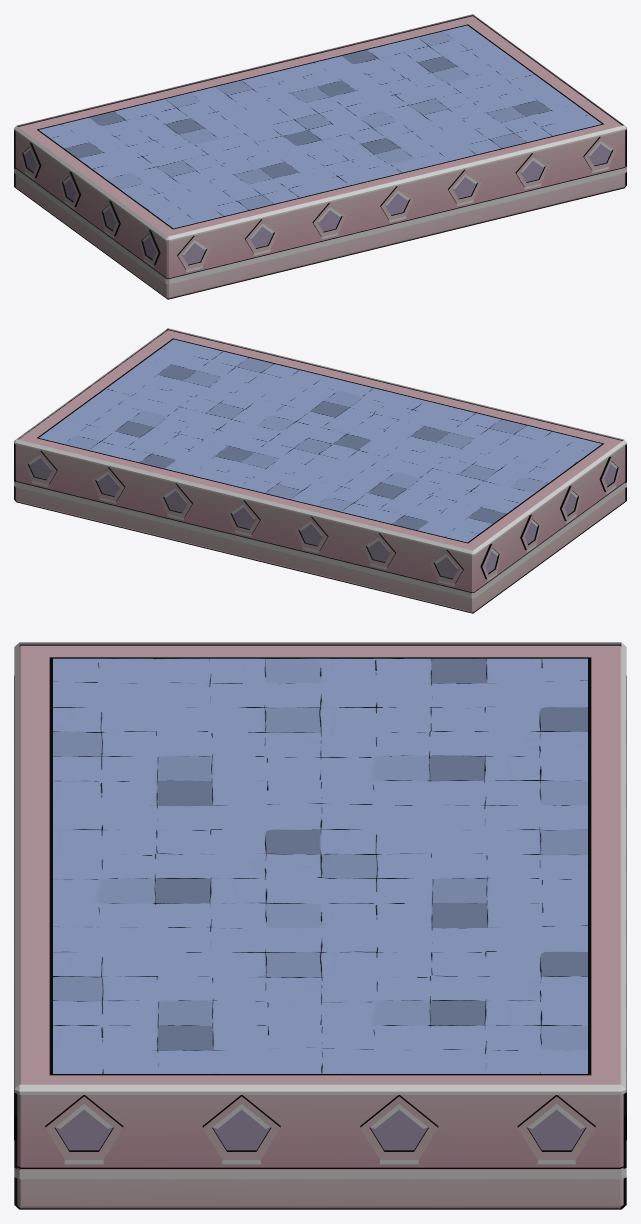
The model's file is Rooms_Paradise_Roof01_Art.fbx.
The picture shows the model from 3 angles, top to bottom: view 1: azimuth 30°, elevation 25°; view 2: azimuth 150°, elevation 25°; view 3: azimuth 270°, elevation 25°; orthographic projection. The views are drawn at different scales.
Visible parts, largest first — view 1: Rooms_Paradise_Roof01_Art, Rooms_Paradise_Roof01_Shadows, Rooms_Paradise_Roof01_Outliner; view 2: Rooms_Paradise_Roof01_Art, Rooms_Paradise_Roof01_Shadows, Rooms_Paradise_Roof01_Outliner; view 3: Rooms_Paradise_Roof01_Art, Rooms_Paradise_Roof01_Shadows, Rooms_Paradise_Roof01_Outliner.
Part boxes in pixels (x1,y1,x2,y2): Rooms_Paradise_Roof01_Art: [15, 16, 625, 298]; Rooms_Paradise_Roof01_Shadows: [14, 14, 626, 284]; Rooms_Paradise_Roof01_Outliner: [14, 15, 626, 299]; Rooms_Paradise_Roof01_Art: [15, 330, 625, 612]; Rooms_Paradise_Roof01_Shadows: [14, 328, 626, 598]; Rooms_Paradise_Roof01_Outliner: [14, 329, 626, 613]; Rooms_Paradise_Roof01_Art: [14, 645, 626, 1208]; Rooms_Paradise_Roof01_Shadows: [14, 642, 626, 1179]; Rooms_Paradise_Roof01_Outliner: [14, 644, 626, 1209].
Size of the model in its own units: 980 by 128 by 567.
